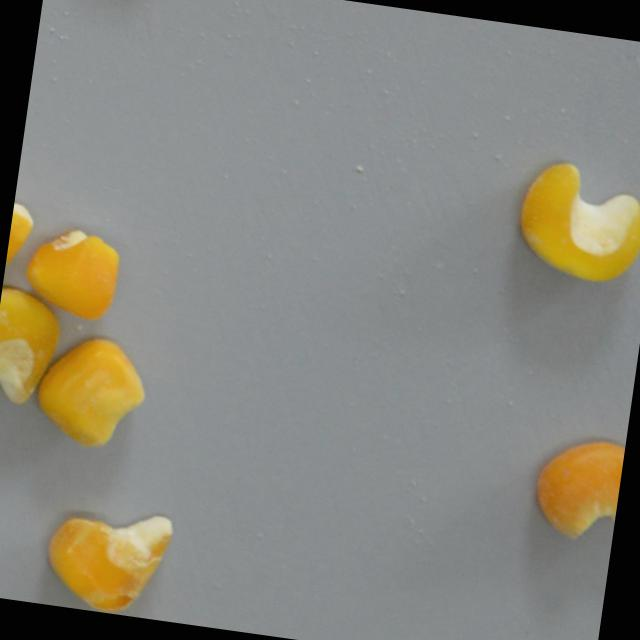no_canjicado: (511, 157, 640, 290), (29, 331, 165, 456), (528, 434, 626, 547), (2, 174, 41, 284)
pelicula: (37, 497, 177, 621), (0, 286, 67, 413)
